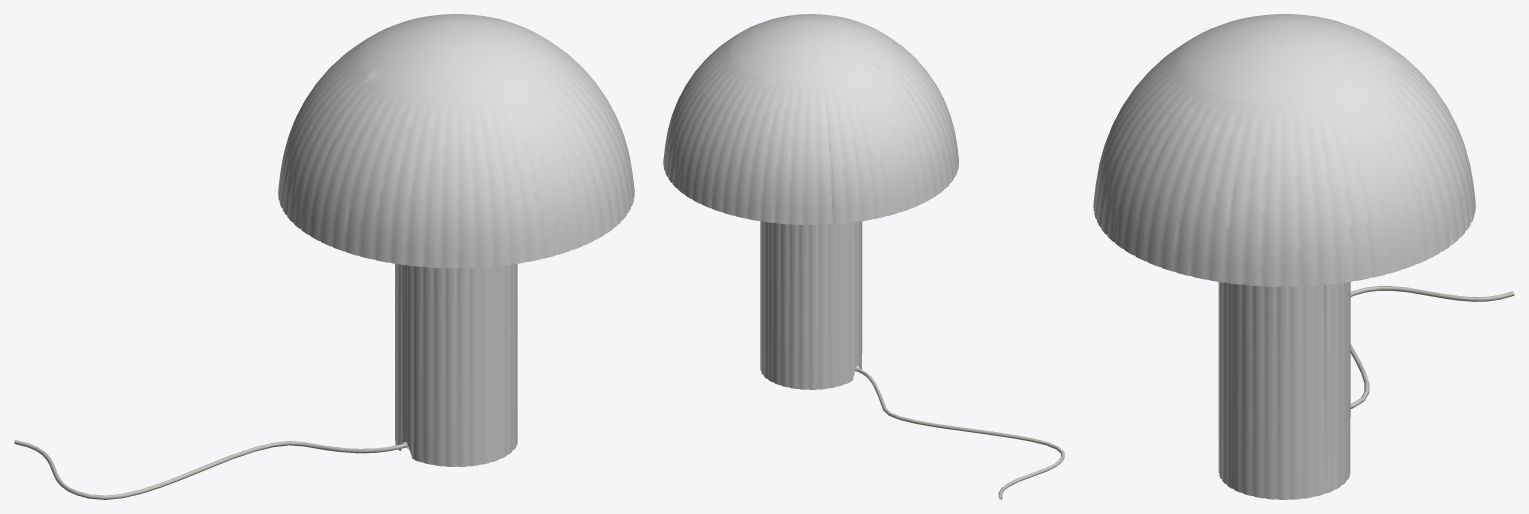
The picture shows the model from 3 angles, left to right: view 1: azimuth 30°, elevation 25°; view 2: azimuth 150°, elevation 25°; view 3: azimuth 270°, elevation 25°; orthographic projection. The views are drawn at different scales.
Parts seen in each view (by area): view 1: Sphere, BézierCurve; view 2: Sphere, BézierCurve; view 3: Sphere, BézierCurve.
Part boxes in pixels (box(x1,y1,x2,y2)): Sphere: box(278, 14, 634, 466); BézierCurve: box(14, 440, 408, 499); Sphere: box(663, 14, 958, 389); BézierCurve: box(855, 367, 1064, 499); Sphere: box(1093, 14, 1475, 499); BézierCurve: box(1350, 286, 1514, 408).
Bounding box in the file's own units: 0.5275 × 0.4146 × 0.3587.
3 materials, 1 textured.
